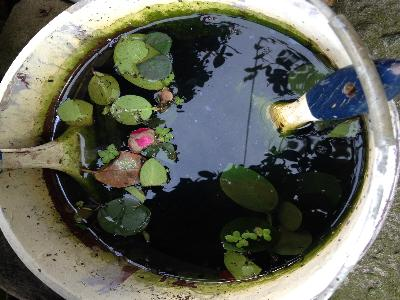bowl: (1, 1, 392, 299)
